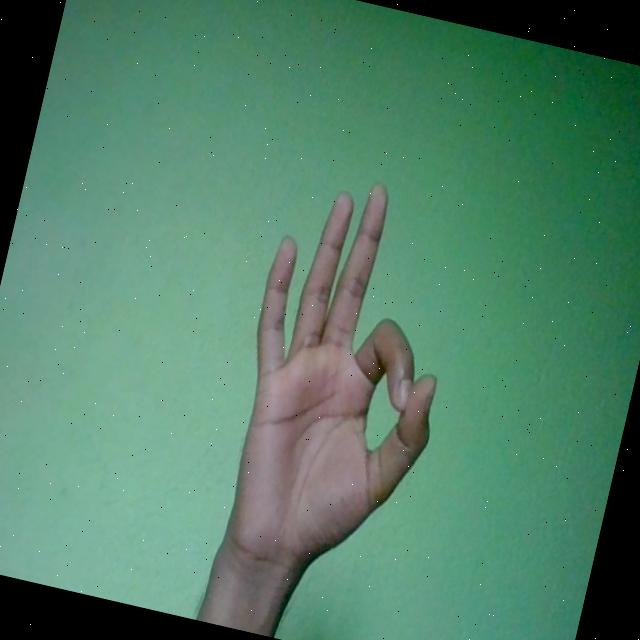Rock On: (204, 163, 482, 592)
